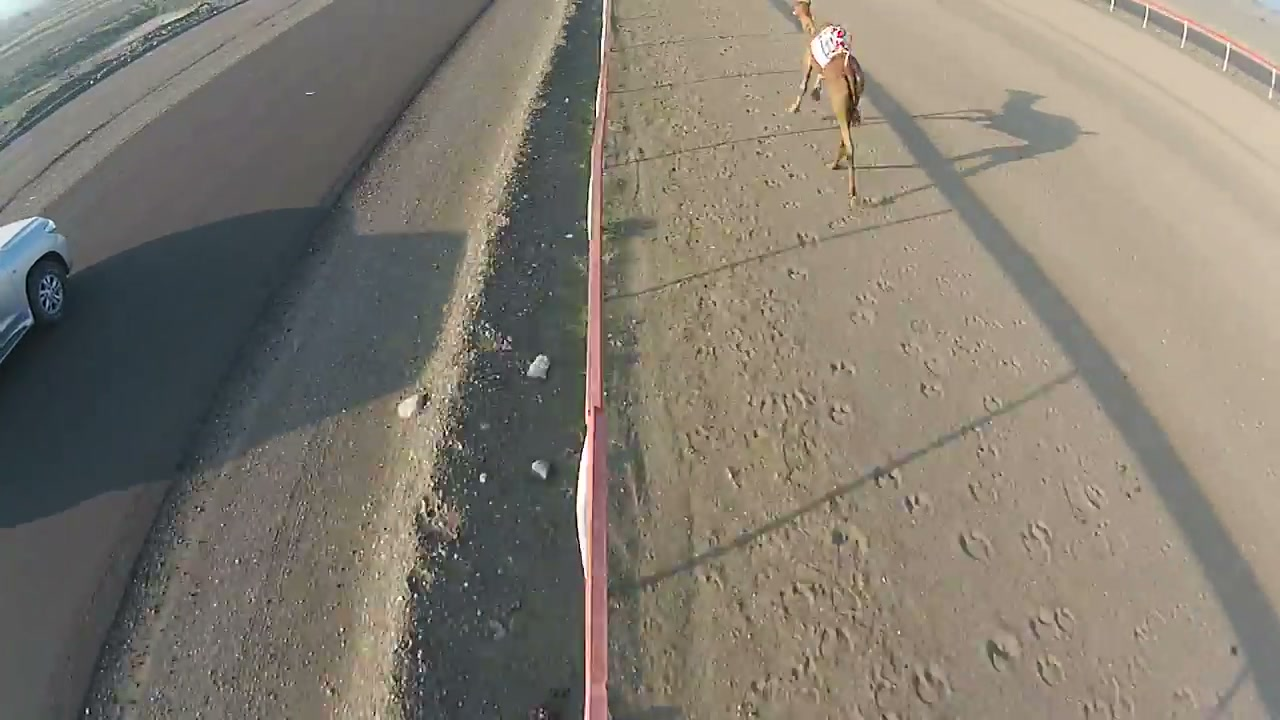animal_footprint: (740, 151, 1106, 700)
